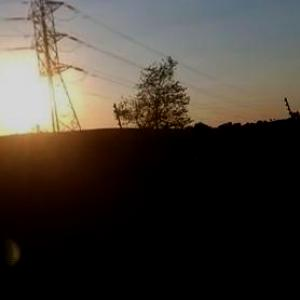follow: (161, 114, 242, 299)
